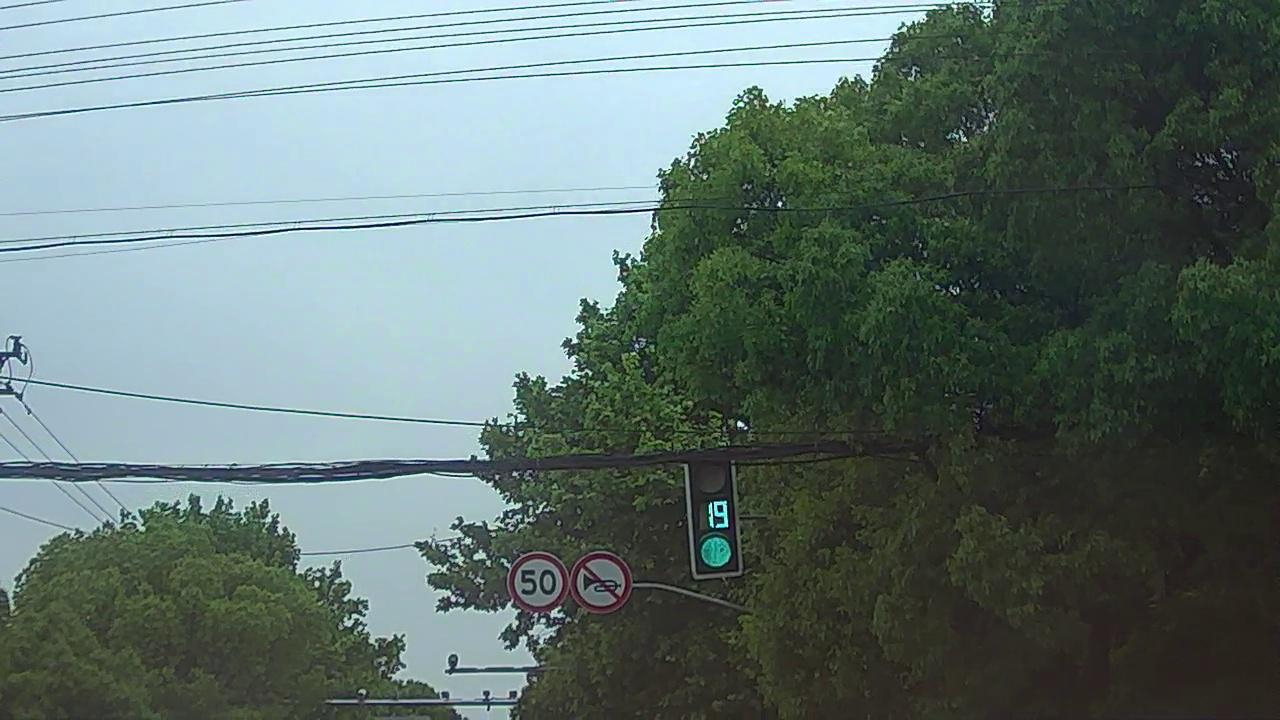traffic_light: (693, 455, 740, 570)
